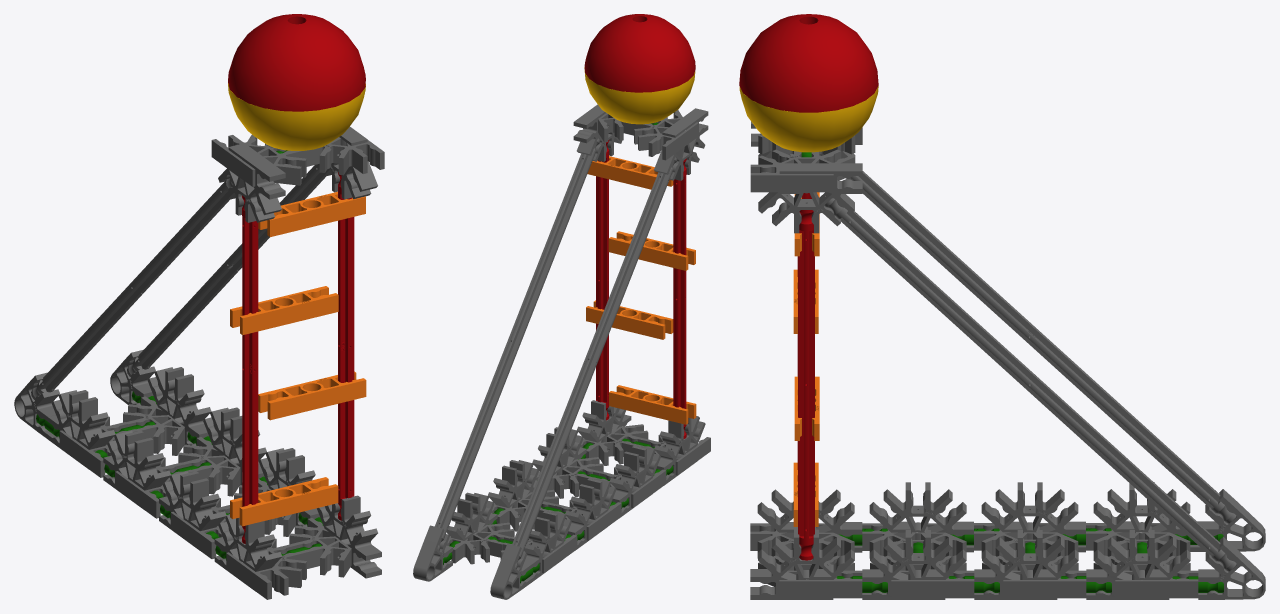
3 renders of one model, left to right at view 1: azimuth 30°, elevation 25°; view 2: azimuth 150°, elevation 25°; view 3: azimuth 270°, elevation 25°, orthographic. The views are drawn at different scales.
Parts seen in each view (by area): view 1: Untitled.1425, Untitled.1438, Untitled.1439, Untitled.1440, transform1.007, Untitled.1437, Untitled.1429, Untitled.1479, Untitled.1427, Untitled.1478, Untitled.1485, Untitled.1448 (+20 smaller); view 2: Untitled.1425, Untitled.1437, Untitled.1438, Untitled.1439, transform1.007, Untitled.1440, Untitled.1479, Untitled.1462, Untitled.1467, Untitled.1451, Untitled.1431, Untitled.1429 (+20 smaller); view 3: Untitled.1425, Untitled.1437, Untitled.1438, Untitled.1440, transform1.007, Untitled.1434, Untitled.1485, Untitled.1460, Untitled.1448, Untitled.1473, Untitled.1467, Untitled.1462 (+15 smaller).
Boxes of the visible parts, x1,y1,x2,y2 form: Untitled.1425: (228,14,365,111); Untitled.1438: (31,178,233,399); Untitled.1439: (242,195,258,543); Untitled.1440: (338,172,354,520); transform1.007: (228,83,365,150); Untitled.1437: (127,164,325,377); Untitled.1429: (218,143,285,222); Untitled.1479: (230,477,338,526); Untitled.1427: (230,286,338,335); Untitled.1478: (258,371,366,420); Untitled.1485: (317,495,381,578); Untitled.1448: (147,367,211,445); Untitled.1425: (584,14,695,92); Untitled.1437: (434,138,600,550); Untitled.1438: (512,157,677,568); Untitled.1439: (673,158,686,438); transform1.007: (584,67,695,124); Untitled.1440: (596,140,609,420); Untitled.1479: (609,385,696,424); Untitled.1462: (565,478,616,550); Untitled.1467: (609,446,660,516); Untitled.1451: (524,511,571,583); Untitled.1431: (634,110,698,160); Untitled.1429: (654,108,708,180); Untitled.1425: (739,14,878,112); Untitled.1437: (824,198,1236,571); Untitled.1438: (846,171,1236,523); Untitled.1440: (798,210,814,560); transform1.007: (739,86,878,152); Untitled.1434: (758,163,862,233); Untitled.1485: (750,529,854,599); Untitled.1460: (974,530,1078,599); Untitled.1448: (1086,530,1190,599); Untitled.1473: (862,530,966,599); Untitled.1467: (869,482,973,552); Untitled.1462: (981,482,1085,552).
Size of the model in its own units: 0.4764 by 2 by 1.73.
